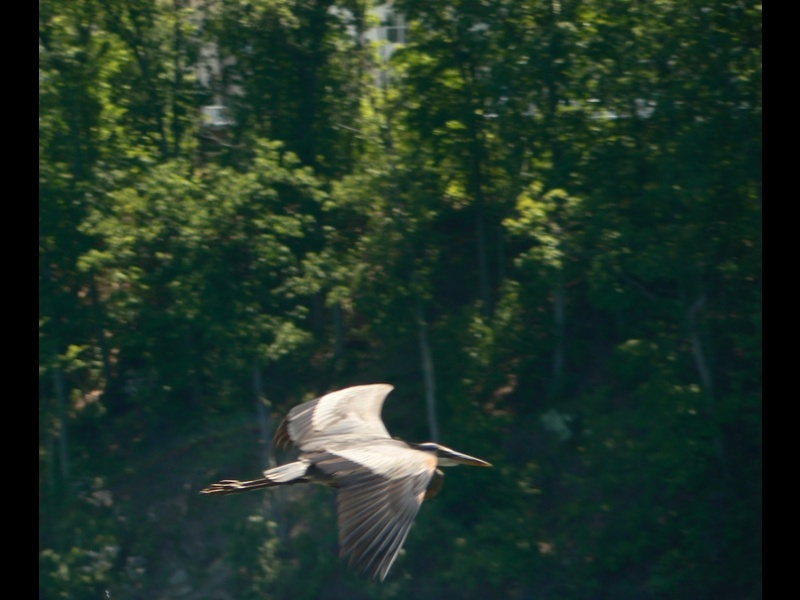heron: (200, 373, 496, 580)
